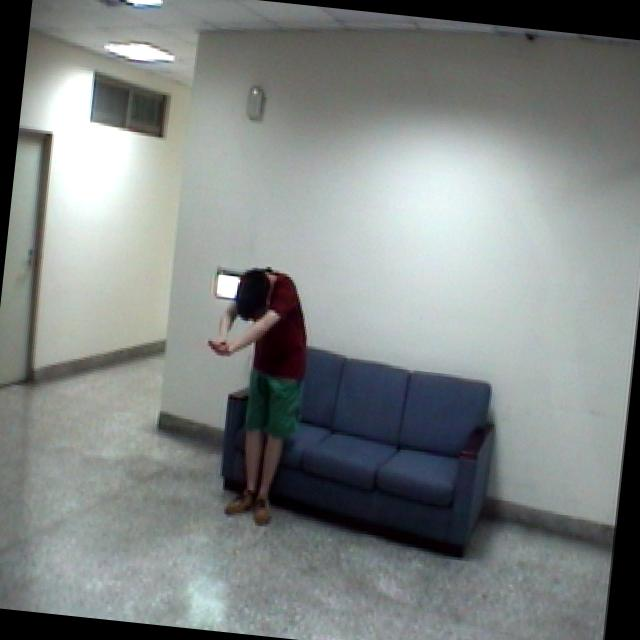bend: (182, 258, 319, 532)
